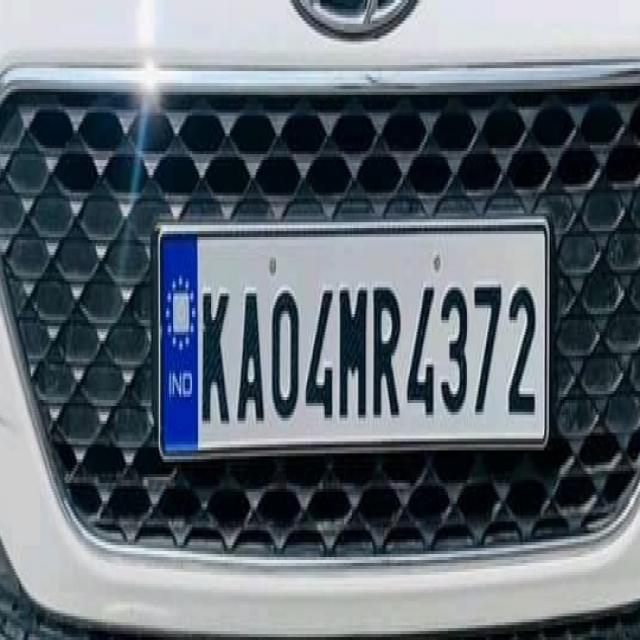0: (270, 282, 302, 423)
3: (439, 282, 469, 418)
4: (405, 273, 438, 423), (304, 278, 334, 425)
7: (470, 276, 504, 424)
A: (236, 279, 268, 434)
K: (200, 276, 231, 432)
M: (334, 275, 370, 425)
R: (371, 276, 403, 420)
